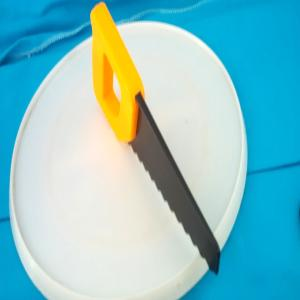serrote: (90, 2, 221, 276)
